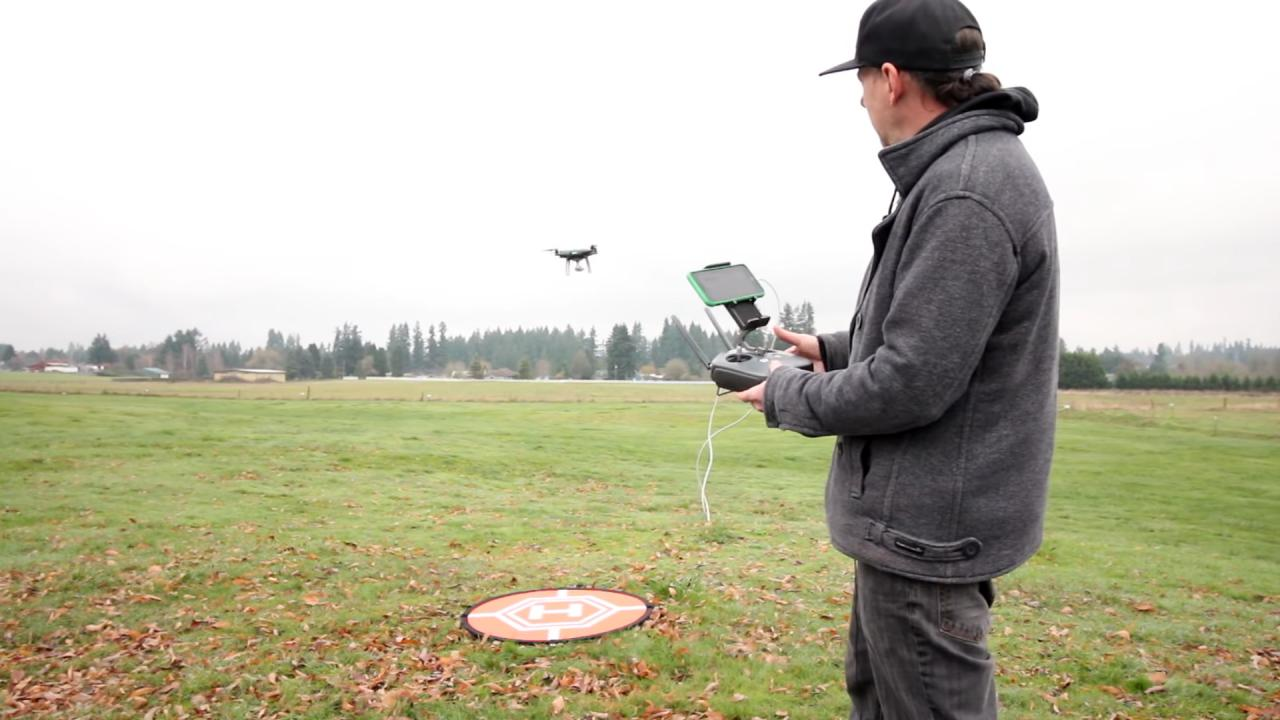Drone: (543, 231, 606, 279)
